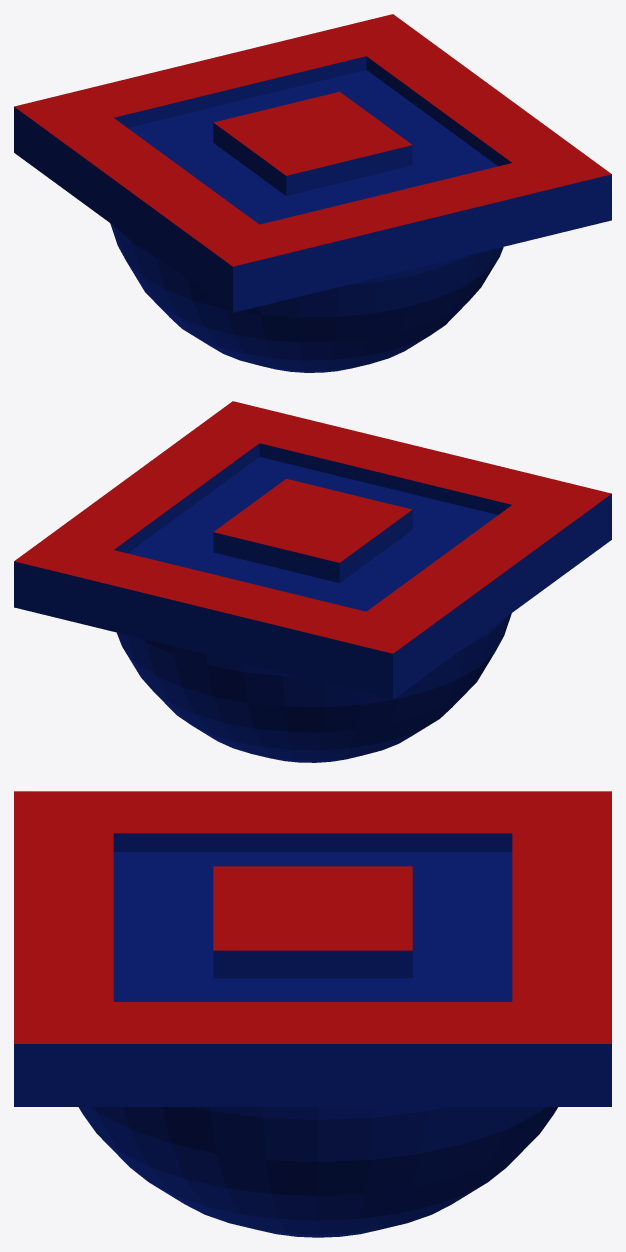
Rendered from MovingPlatform.fbx.
3 views of the same model, one above another, from view 1: azimuth 30°, elevation 25°; view 2: azimuth 150°, elevation 25°; view 3: azimuth 270°, elevation 25° (orthographic). The views are drawn at different scales.
Visible parts, largest first — view 1: Cube.001, Sphere; view 2: Cube.001, Sphere; view 3: Cube.001, Sphere.
Part boxes in pixels (x1,y1,x2,y2): Cube.001: [14, 14, 611, 312]; Sphere: [110, 223, 503, 372]; Cube.001: [14, 401, 611, 699]; Sphere: [117, 613, 511, 762]; Cube.001: [14, 791, 611, 1106]; Sphere: [78, 1107, 557, 1237].
Size of the model in its own units: 173 by 96.28 by 173.
